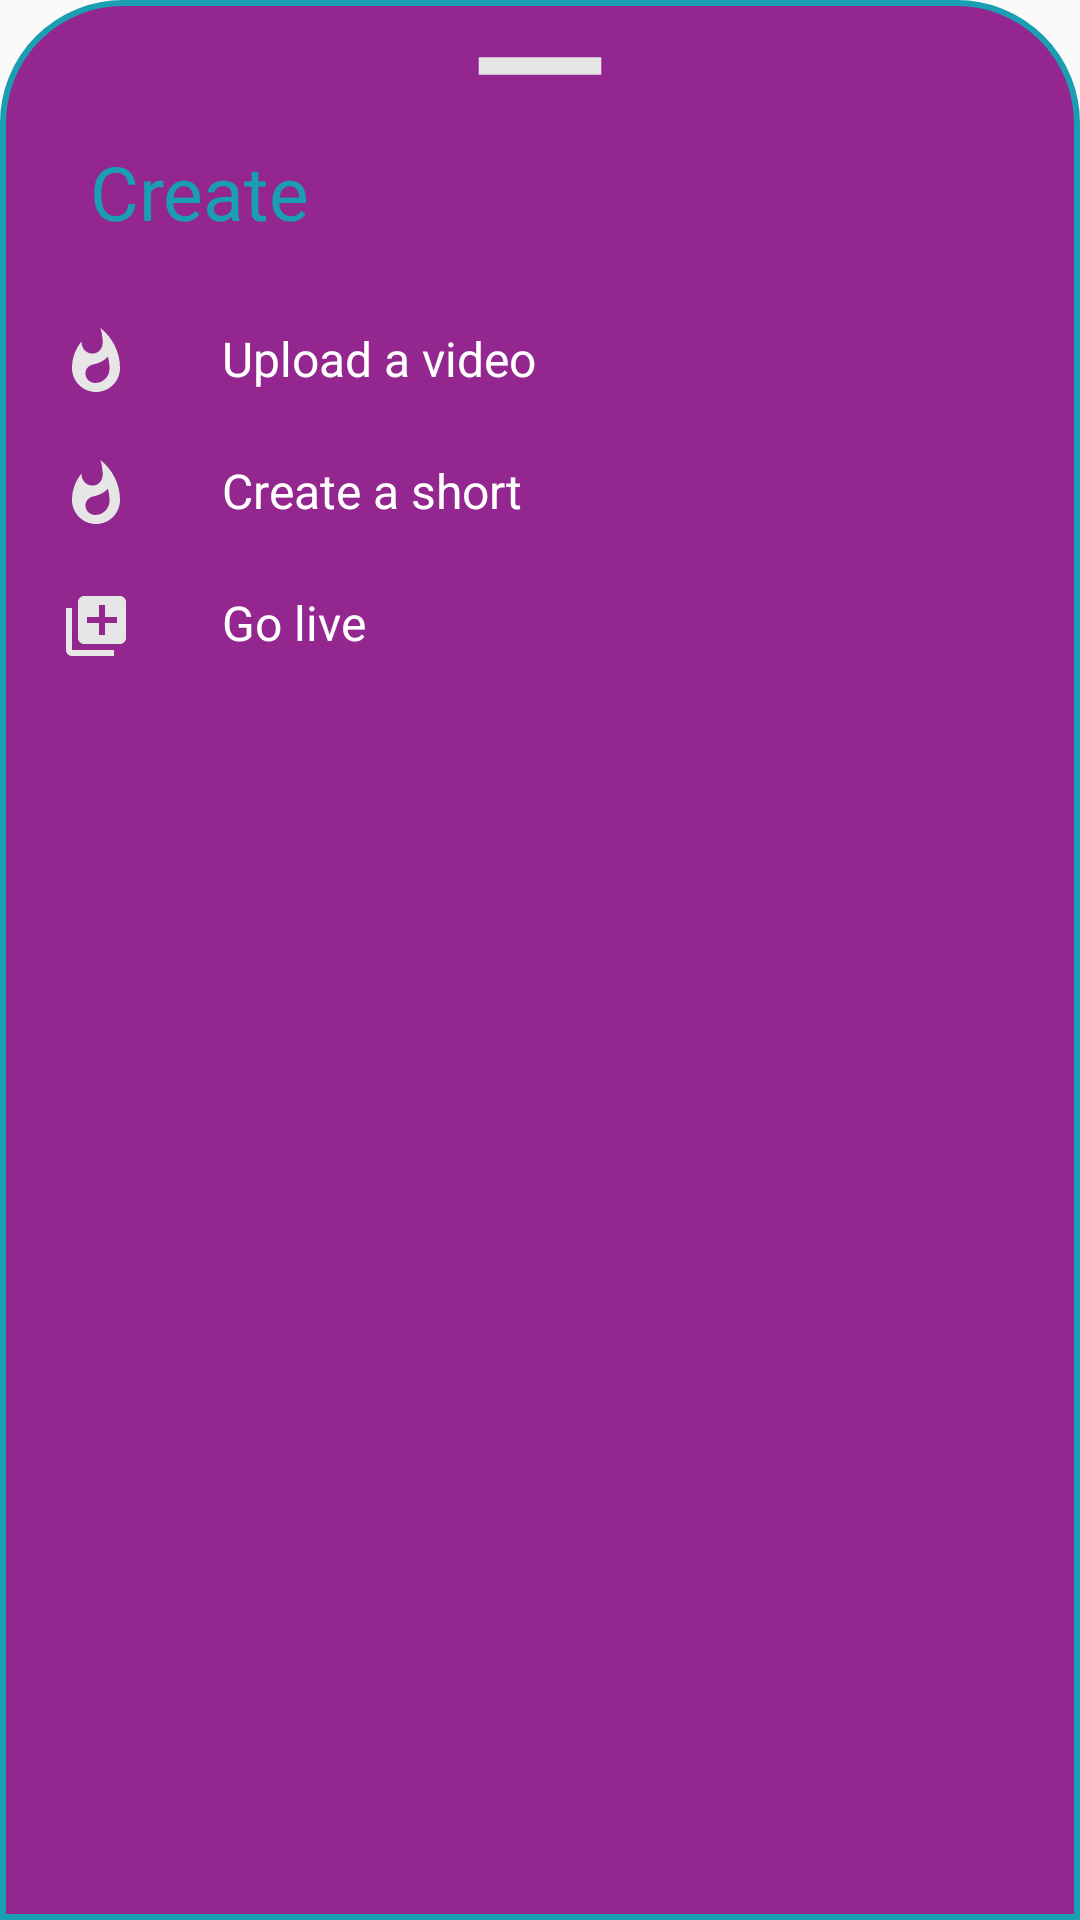

Locate icon controls on the screen. Image size 1080×1920, boxes as [left=x1, top=y1, right=x2, bottom=y2].
add to photos: [left=66, top=596, right=126, bottom=656]
whatshot: [left=72, top=328, right=120, bottom=392], [left=72, top=460, right=120, bottom=524]
